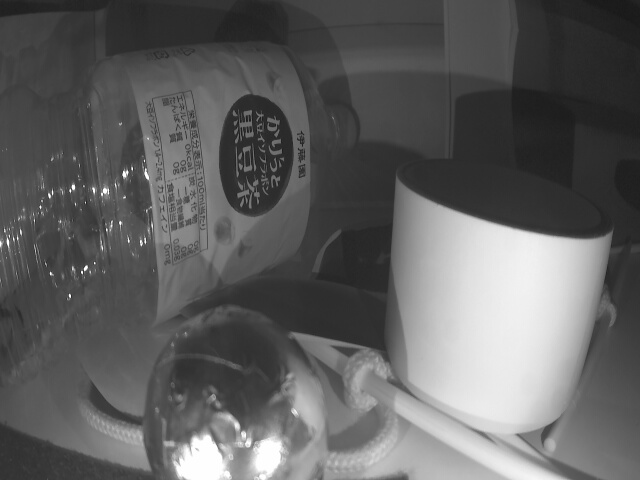Live: (140, 313, 324, 480)
